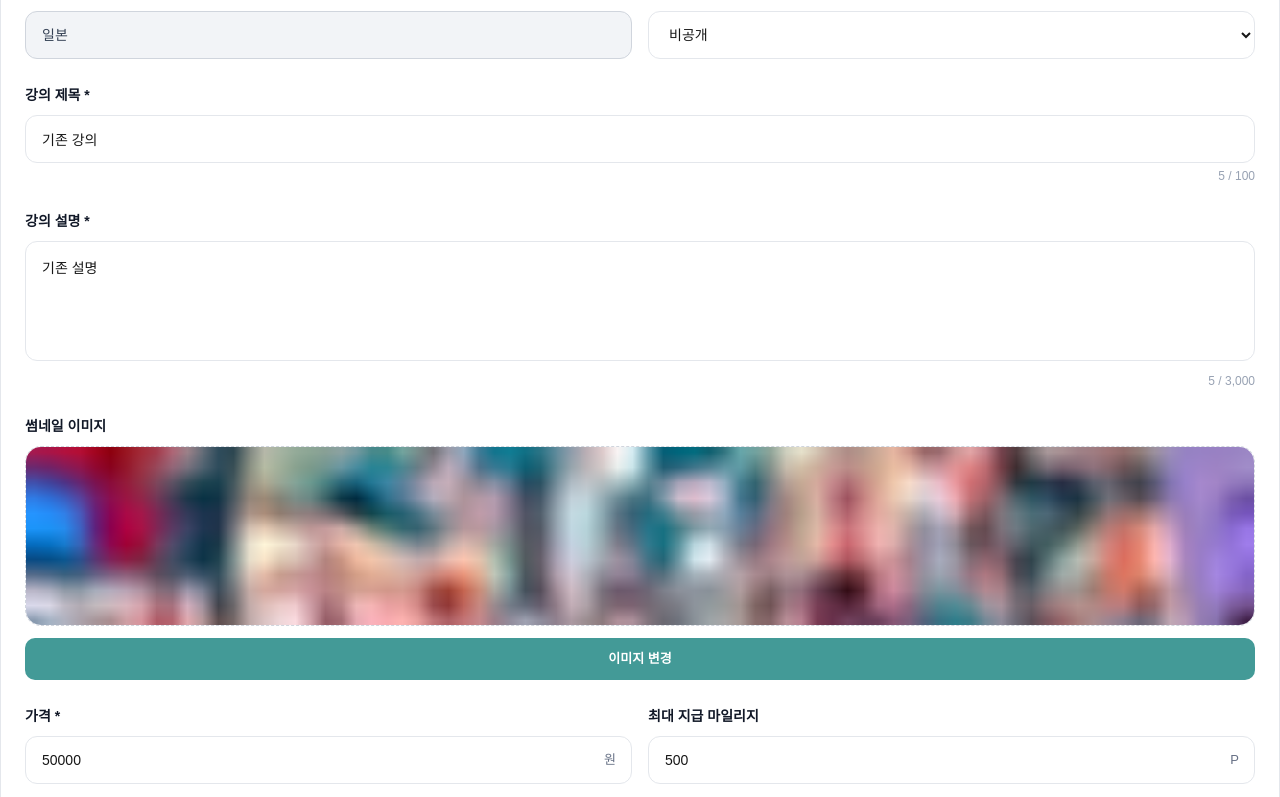
Scenario: LectureForm 컴포넌트 테스트 › 강의 수정 폼 제출 시 수정 payload를 전달하고 완료 모달을 보여준다
Step 1. Replace the text in the field labelled "강의 제목 *" with "수정된 강의" → (640, 139), box left=25, top=115, right=1255, bottom=163
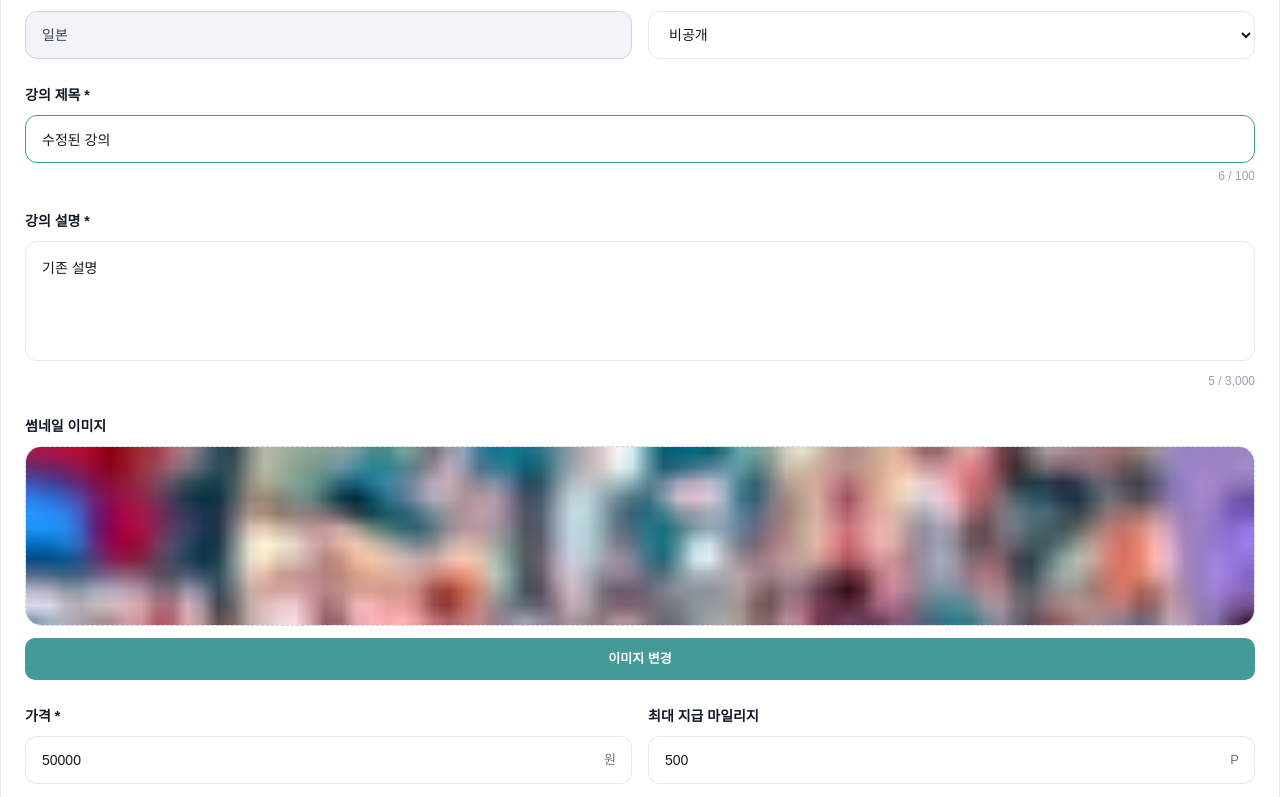
Step 2. Select "공개" in the dropdown labelled "상태 *" → (952, 35), box left=648, top=11, right=1255, bottom=59
(page scrolled)
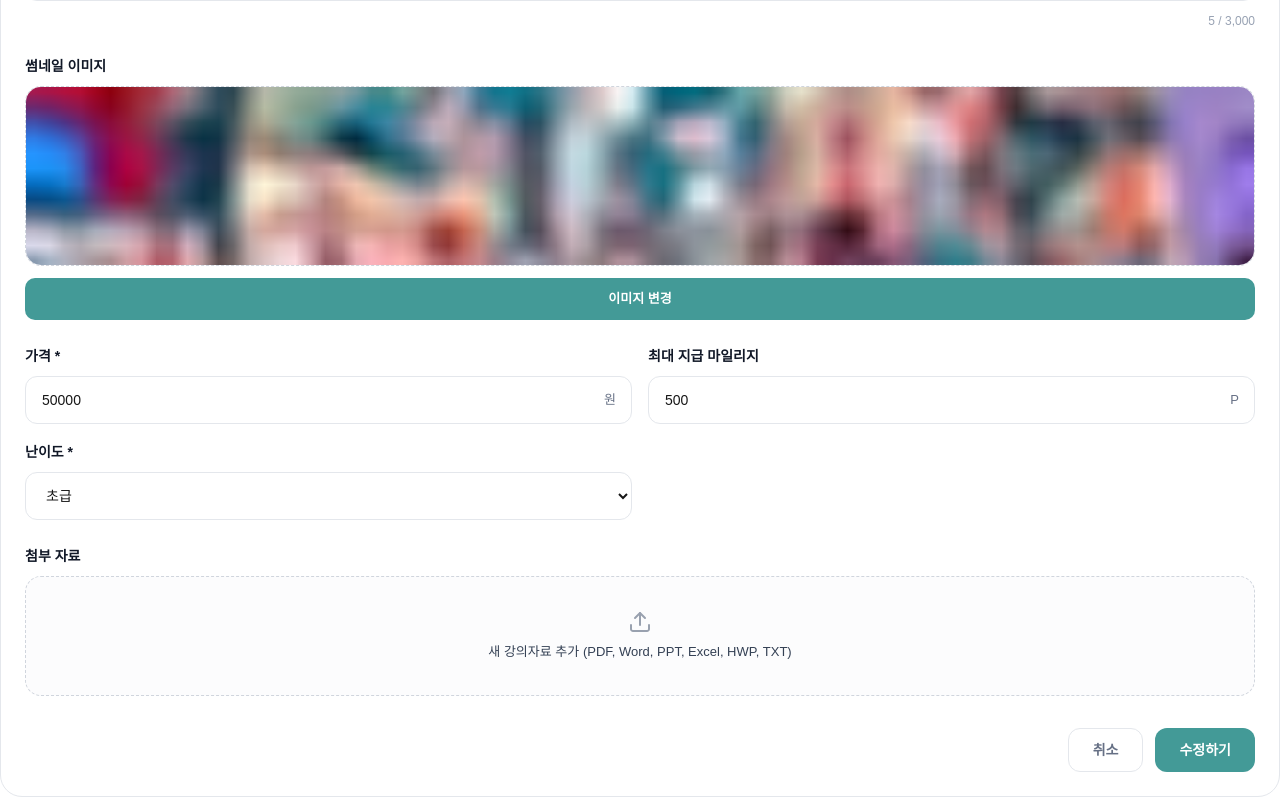
Step 3. Click the button "수정하기" → (1205, 750), box left=1156, top=728, right=1255, bottom=772
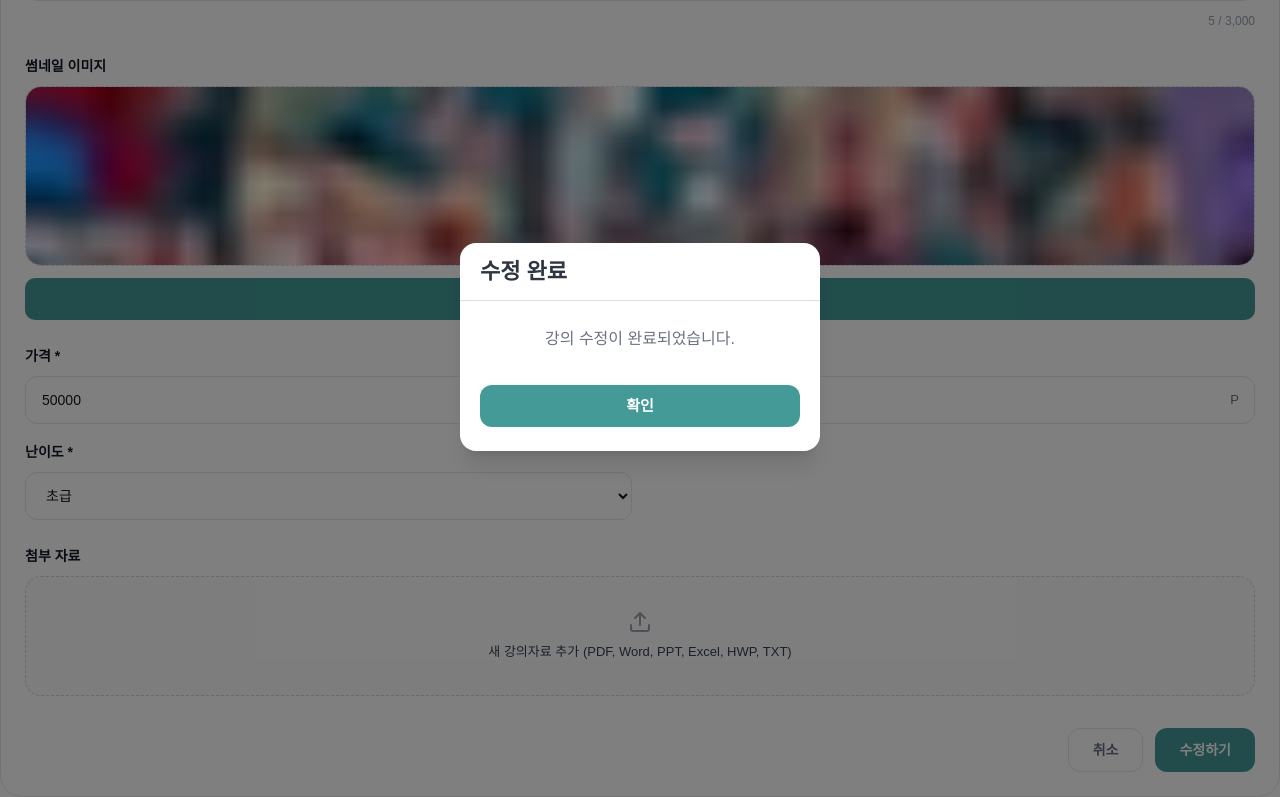
Check: the heading "수정 완료" is shown, box left=480, top=259, right=567, bottom=284
